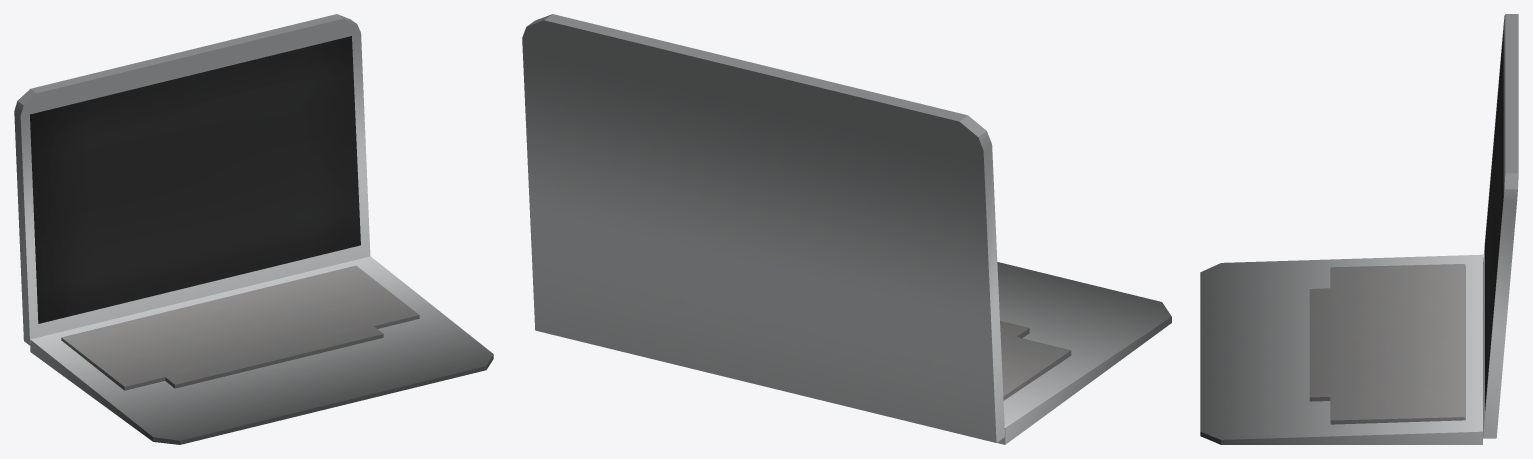
File: Laptop_Off.fbx
3 views of the same model, side by side, from view 1: azimuth 30°, elevation 25°; view 2: azimuth 150°, elevation 25°; view 3: azimuth 270°, elevation 25° (orthographic). The views are drawn at different scales.
Parts seen in each view (by area): view 1: Laptop_Off; view 2: Laptop_Off; view 3: Laptop_Off.
Boxes of the visible parts, <box> form: Laptop_Off: <box>14,14,493,444</box>; Laptop_Off: <box>522,14,1171,444</box>; Laptop_Off: <box>1200,14,1518,444</box>.
Bounding box in the file's own units: 41.29 × 28.59 × 31.41.
